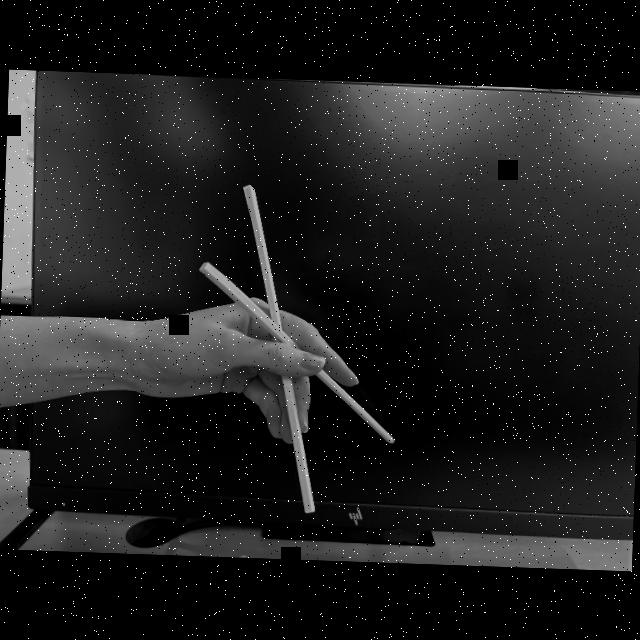stick: (190, 178, 402, 490)
